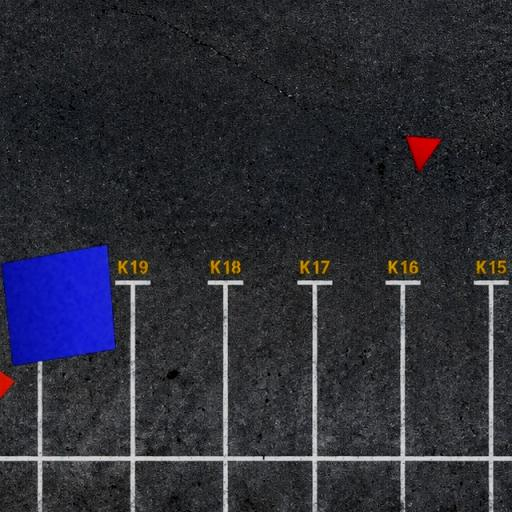BLUE_SQUARE: (1, 244, 116, 366)
